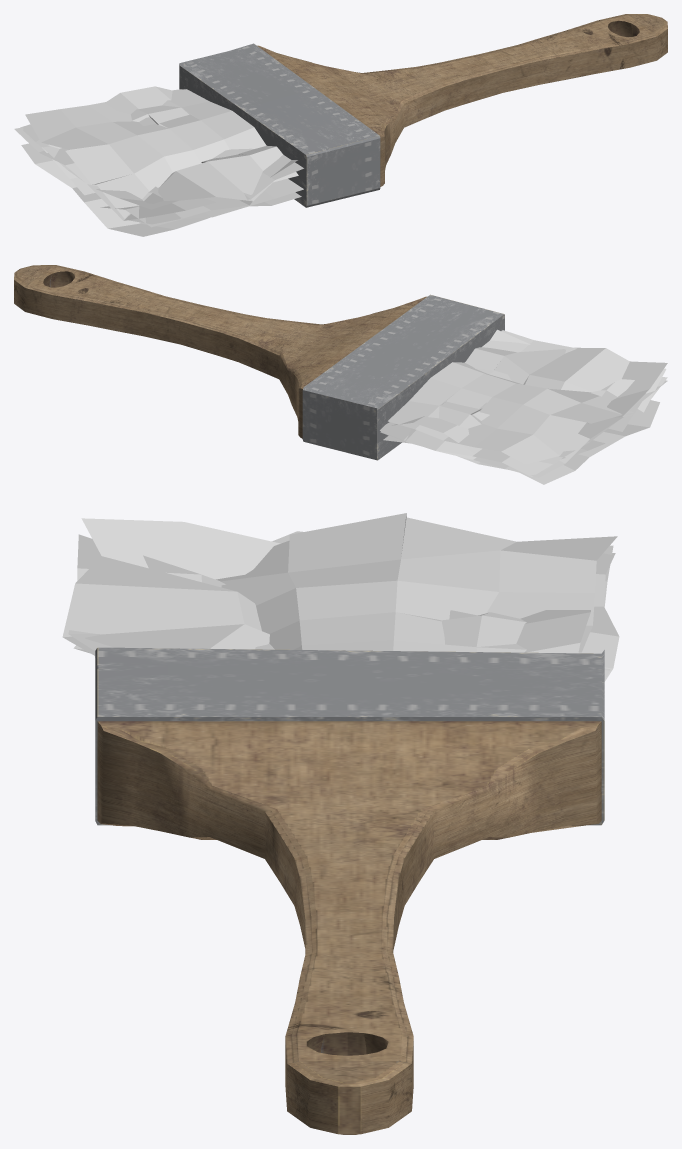
File: Large_Brush.fbx
The picture shows the model from 3 angles, top to bottom: view 1: azimuth 30°, elevation 25°; view 2: azimuth 150°, elevation 25°; view 3: azimuth 270°, elevation 25°; orthographic projection. The views are drawn at different scales.
Visible parts, largest first — view 1: Large_Brush; view 2: Large_Brush; view 3: Large_Brush.
Boxes of the visible parts, x1,y1,x2,y2 form: Large_Brush: [14, 14, 667, 236]; Large_Brush: [14, 265, 667, 484]; Large_Brush: [62, 513, 619, 1134].
Size of the model in its own units: 0.2814 by 0.0252 by 0.1144.
